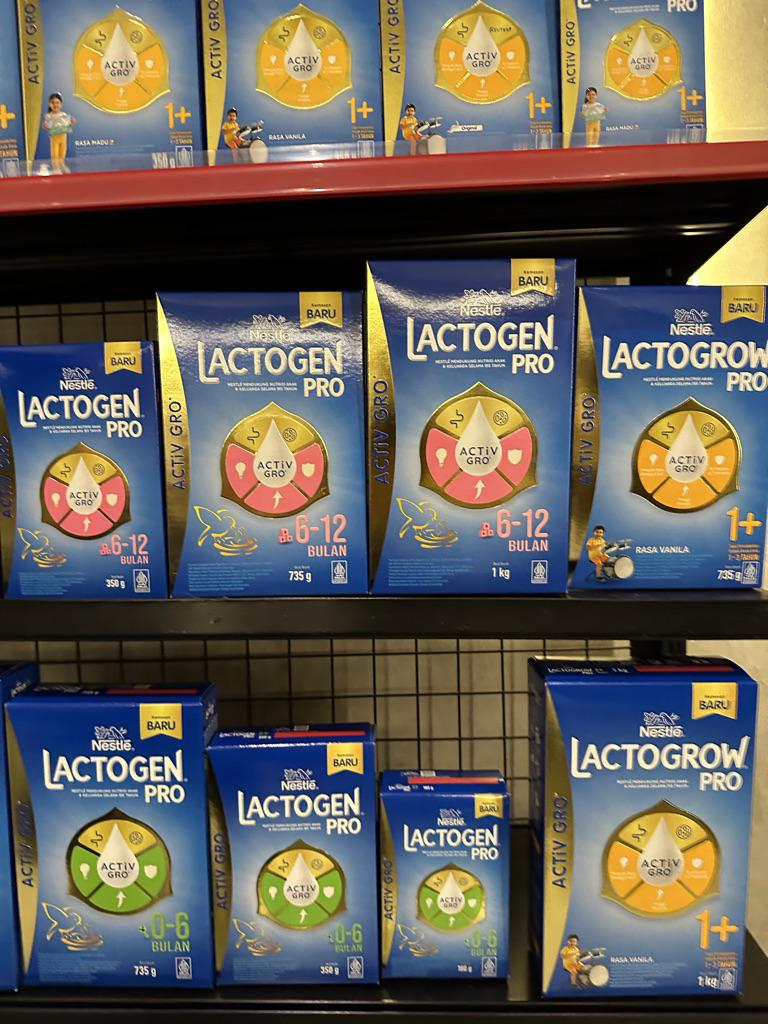LACTOGEN PRO 0-6 mo 12x735g ID: (15, 698, 207, 993)
LACTOGEN PRO 0-6 mo 24x350g ID: (206, 745, 380, 986)
LACTOGEN PRO 0-6 mo 40x180g ID: (376, 787, 516, 986)
LACTOGEN PRO 6-12 mo 12x735g ID: (363, 255, 576, 597)
LACTOGEN PRO 6-12 mo 24x350g ID: (155, 287, 369, 594)
LACTOGEN PRO 6-12 mo 40x180g ID: (6, 340, 166, 604)
LACTOGROW PRO 1+ Van 12x1kg ID: (534, 673, 750, 995)
LACTOGROW PRO 1+ Van 12x735g ID: (573, 284, 768, 590)
